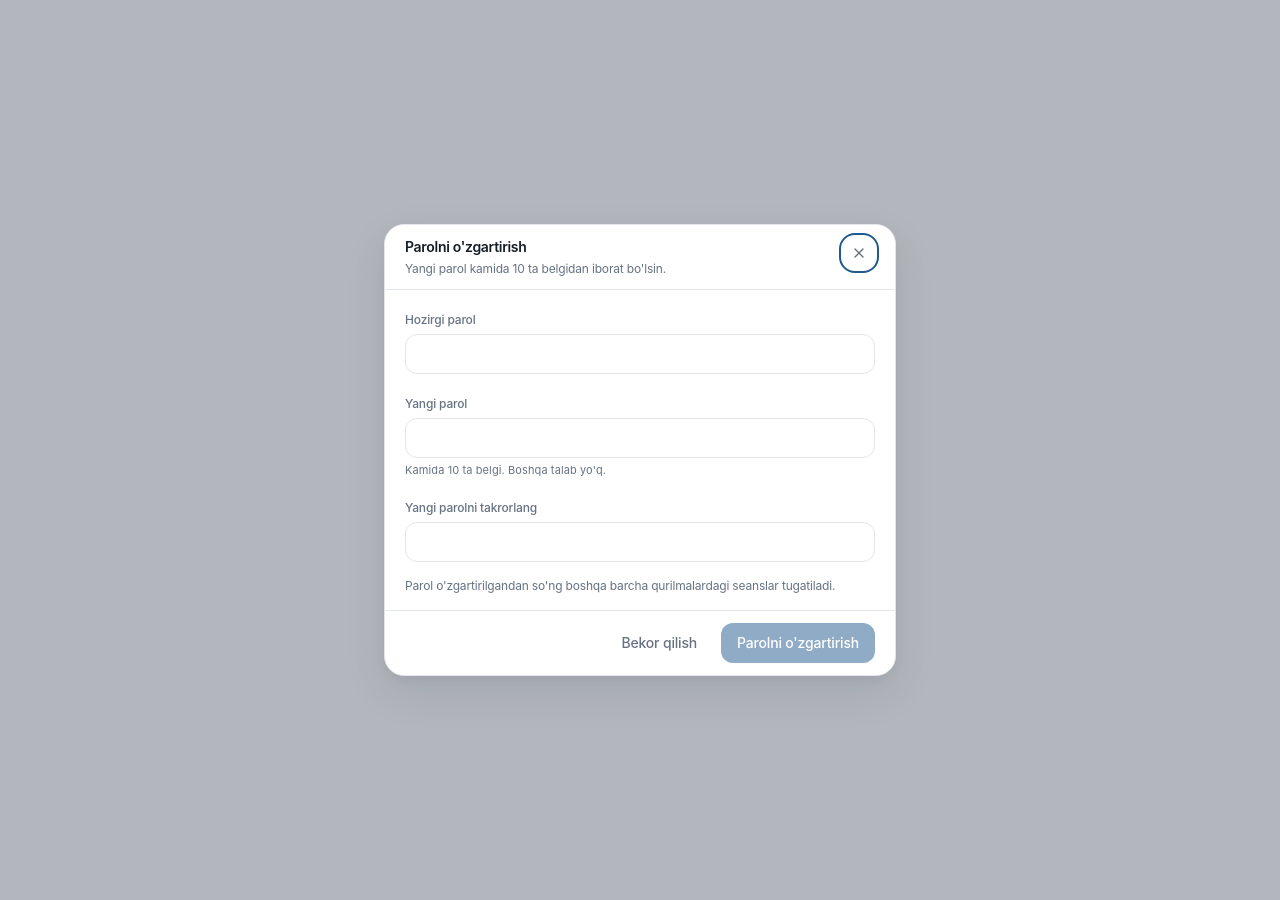
Test: the form › refuses a mismatched repeat, and says which field is wrong
Type "oldpassword" into the password field labelled "Hozirgi parol" at (640, 354), box x1=405 y1=334 x2=875 y2=374
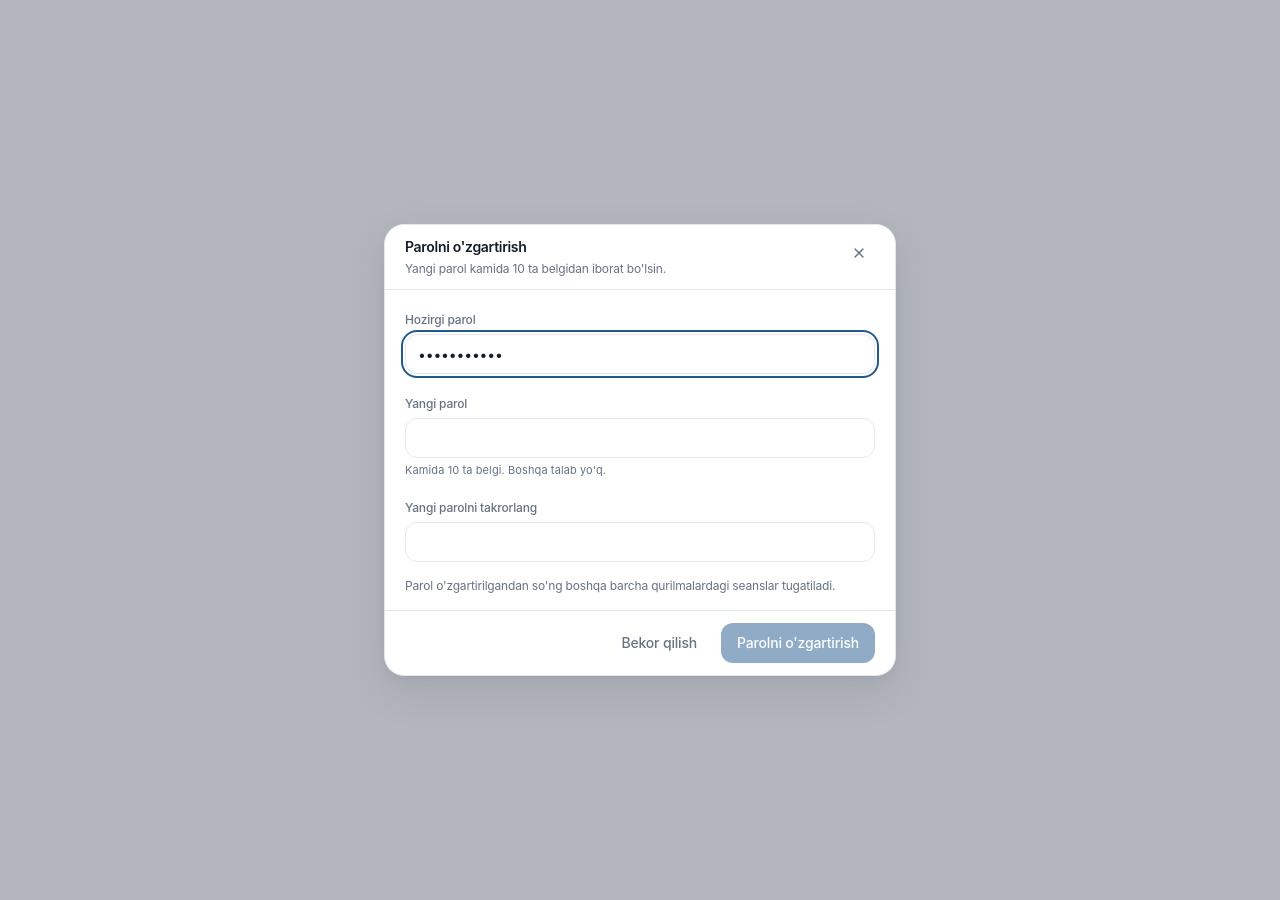
Type "longenoughpassword" into the password field labelled "Yangi parol" at (640, 438), box x1=405 y1=418 x2=875 y2=458
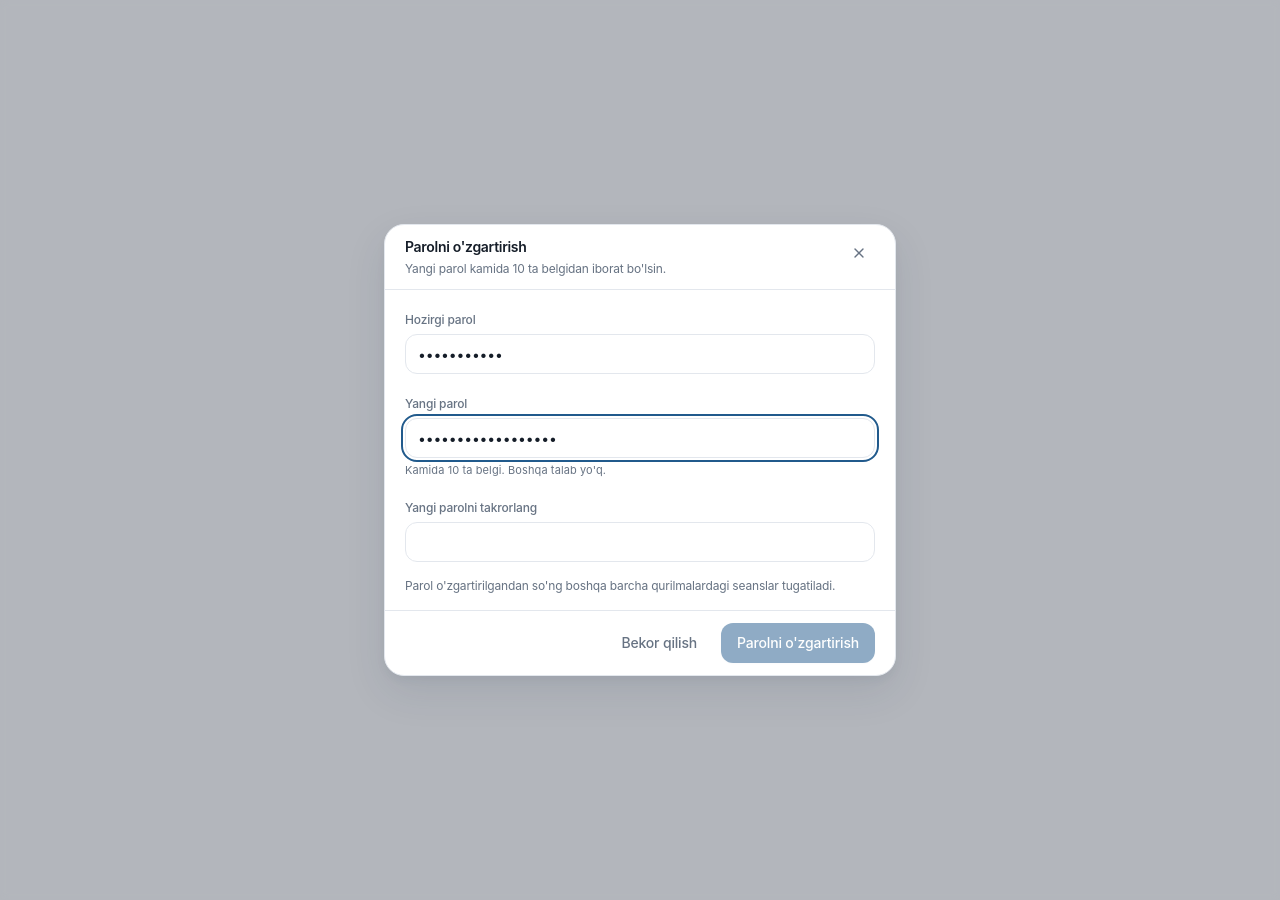
Type "longenoughpasswerd" into the password field labelled "Yangi parolni takrorlang" at (640, 542), box x1=405 y1=522 x2=875 y2=562
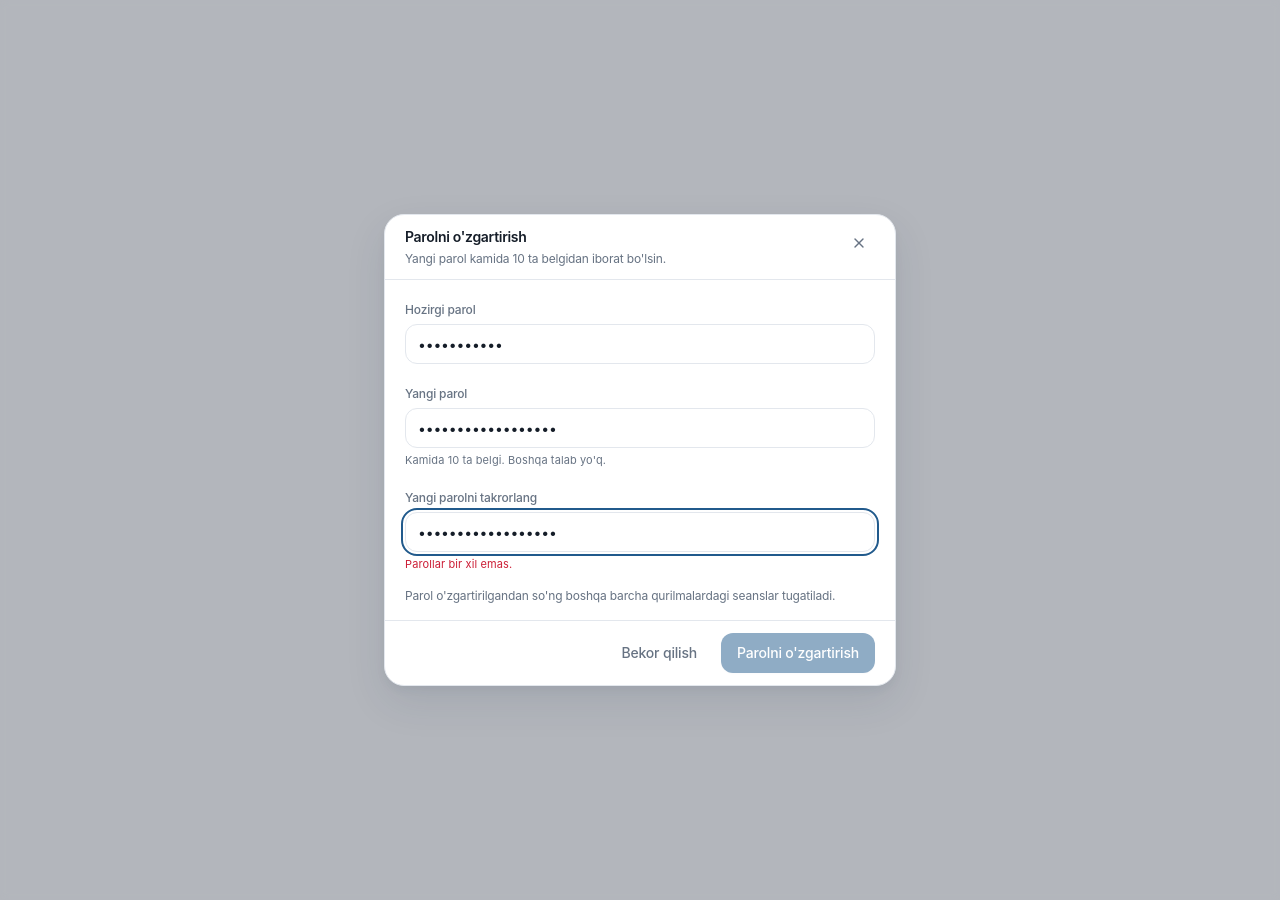
Check: the button "Parolni o'zgartirish" is disabled, box x1=721 y1=633 x2=875 y2=673
Check: the text "Parollar bir xil emas." is shown, box x1=405 y1=557 x2=512 y2=571
